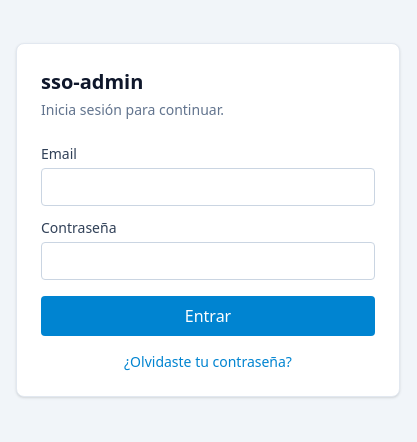
LoginPage › shows an error message on bad credentials
The width and height of the screenshot is (417, 442).
Type "admin@example.com" into the field labelled "Email" at coordinates (208, 187), box [41,168,375,206]
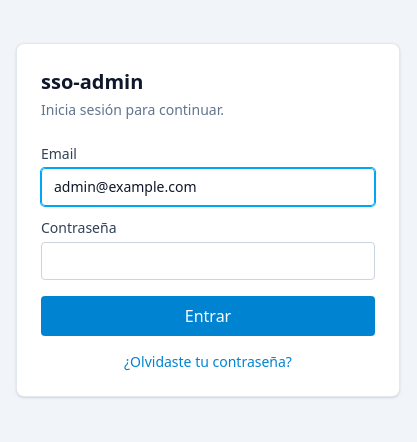
Type "wrong" into the password field labelled "Contraseña" at coordinates (208, 261), box [41,242,375,280]
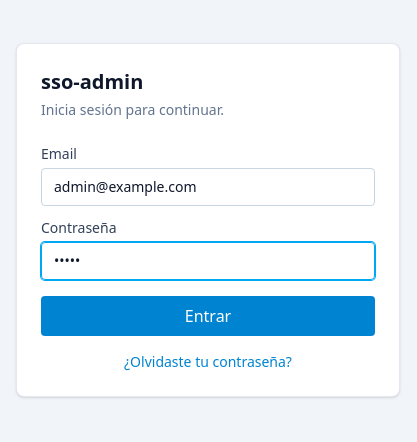
Click the button "Entrar" at coordinates (208, 316), box [41,296,375,336]
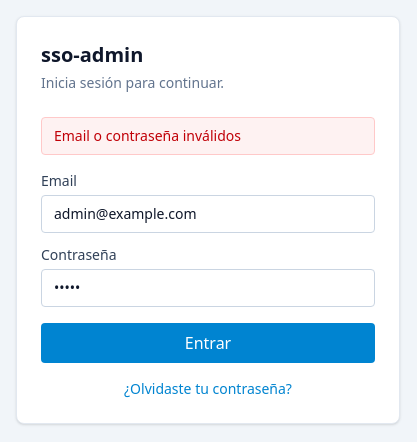
Result: the message reads "Email o contraseña inválidos" at [54,126,241,145]
